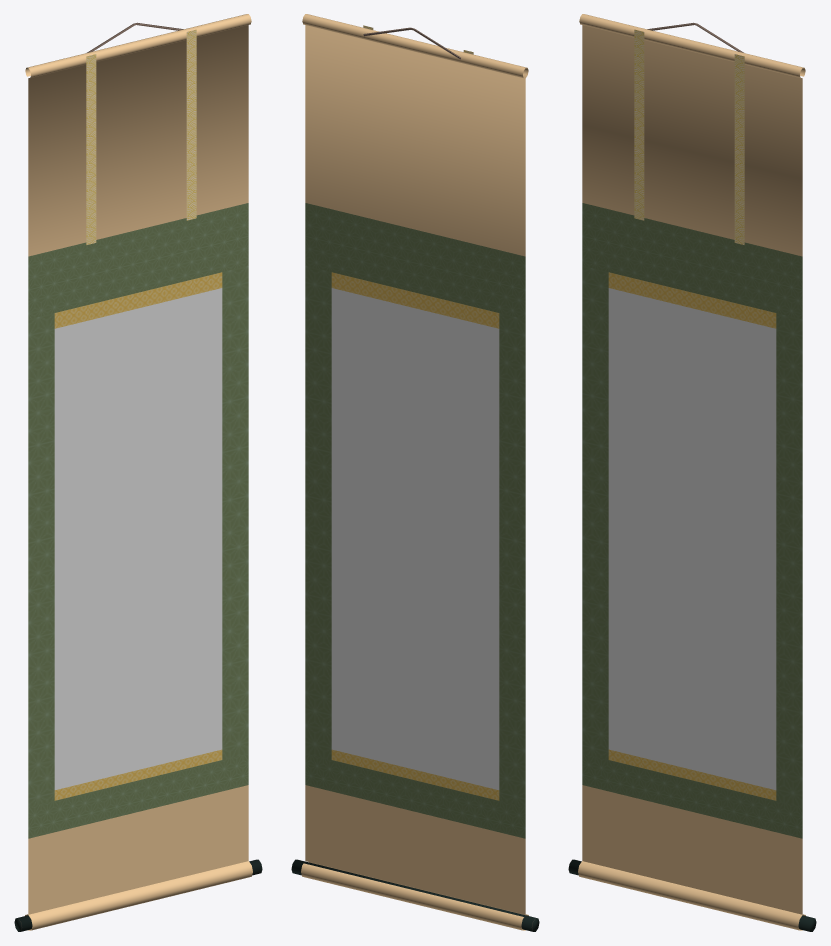
The model's file is kakejiku.glb.
The picture shows the model from 3 angles, left to right: view 1: azimuth 30°, elevation 25°; view 2: azimuth 150°, elevation 25°; view 3: azimuth 330°, elevation 25°; orthographic projection.
Parts seen in each view (by area): view 1: Cylinder, __X_IMAGE__; view 2: Cylinder, __X_IMAGE__; view 3: Cylinder, __X_IMAGE__.
Part boxes in pixels (box(x1,y1,x2,y2)): Cylinder: box(14, 14, 262, 931); __X_IMAGE__: box(54, 288, 222, 790); Cylinder: box(291, 14, 539, 931); __X_IMAGE__: box(331, 288, 499, 790); Cylinder: box(568, 14, 816, 931); __X_IMAGE__: box(608, 288, 776, 790).
Size of the model in its own units: 0.48 by 1.67 by 0.03.
Materials: 2 (1 with a texture image).
